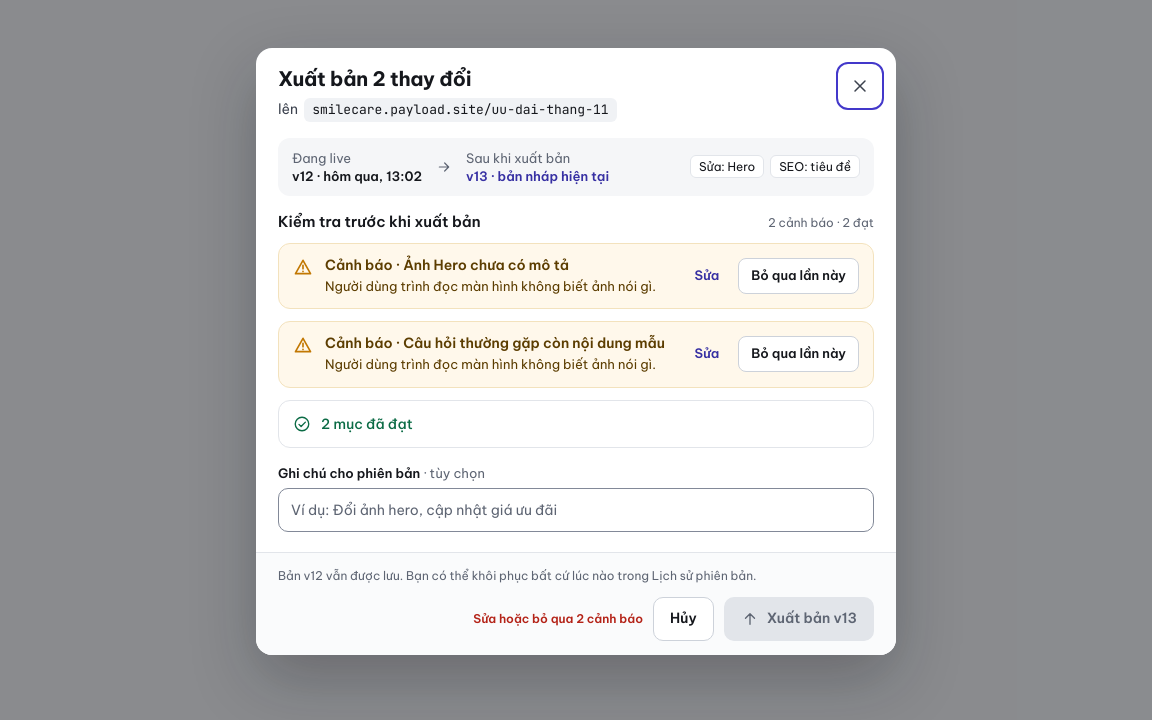
Test: PublishDialog › enables publishing only once every warning is skipped, with the reason linked
Expected: the text "Cảnh báo · Ảnh Hero chưa có mô tả" is shown, [325,256,569,274]
Expected: the button "Xuất bản v13" is disabled, [724,597,874,641]
Click the button "Bỏ qua lần này" in the row of "Ảnh Hero chưa có mô tả": x=799, y=276 [738,258,859,294]
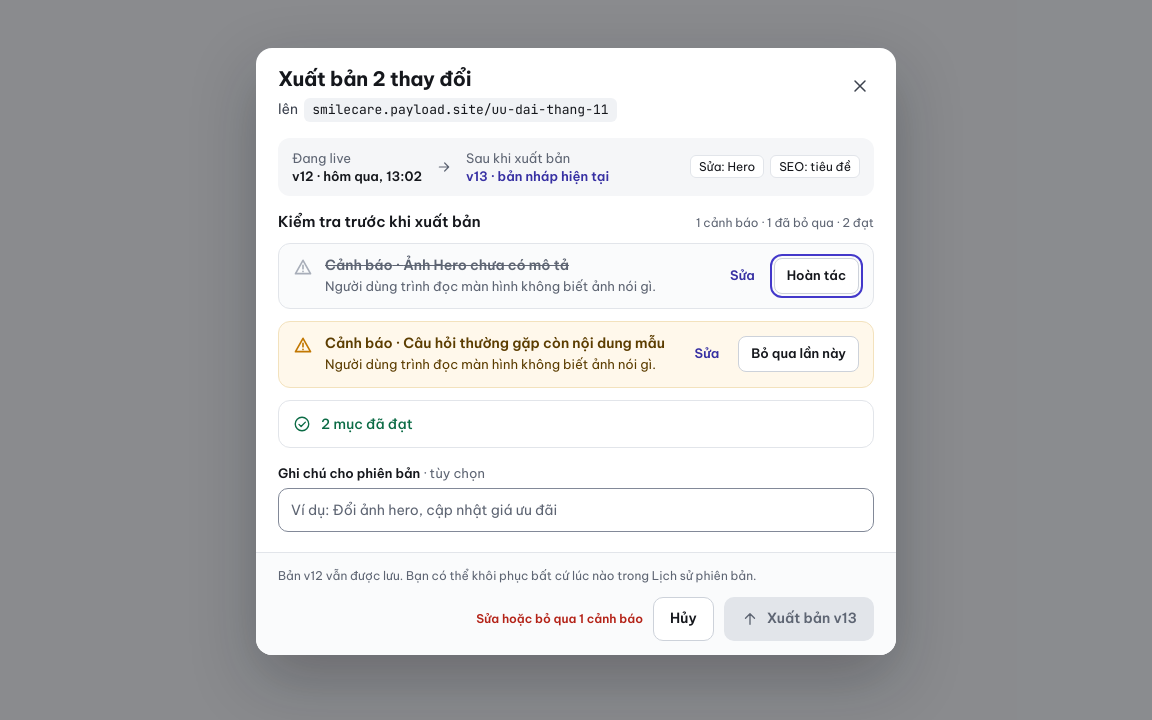
Expected: the button named "Bỏ qua lần này" reads "Hoàn tác", [774,258,859,294]
Expected: the text "1 cảnh báo · 1 đã bỏ qua · 2 đạt" is shown, [696,214,874,230]
Click the button "Bỏ qua lần này": x=799, y=354 [738,336,859,372]
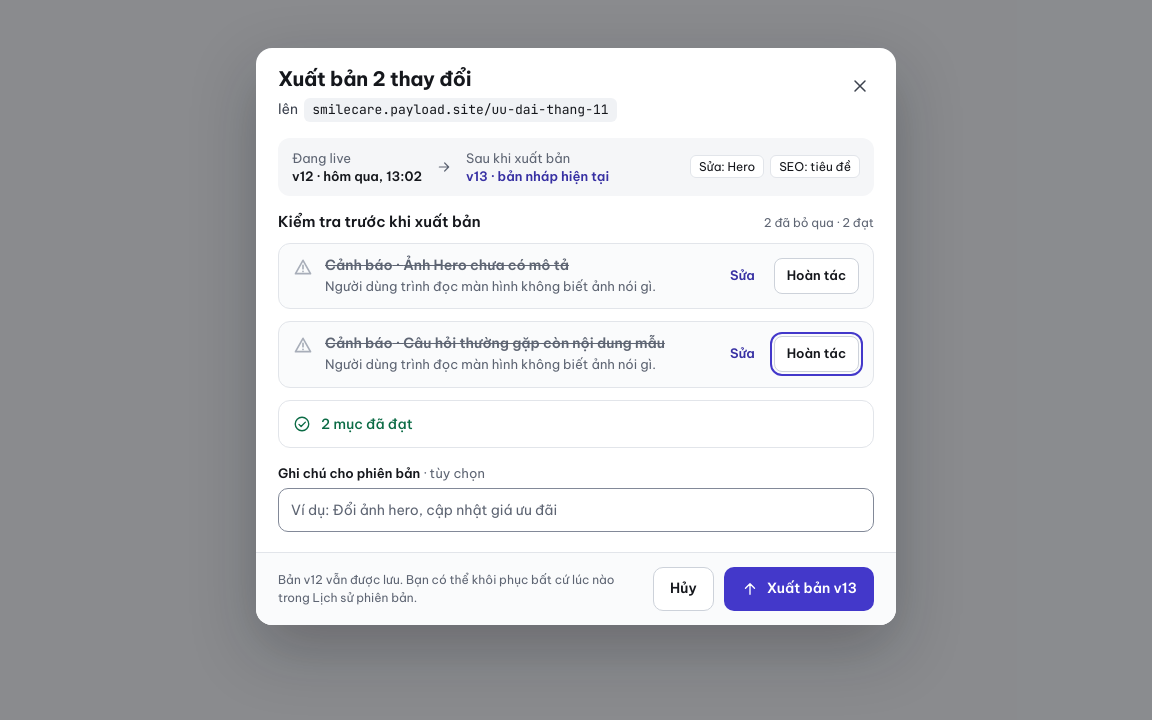
Expected: the button "Xuất bản v13" is enabled, [724,567,874,611]
Expected: the text "Sửa hoặc bỏ qua" is gone
Click the button named "Bỏ qua lần này": x=816, y=276 [774,258,859,294]
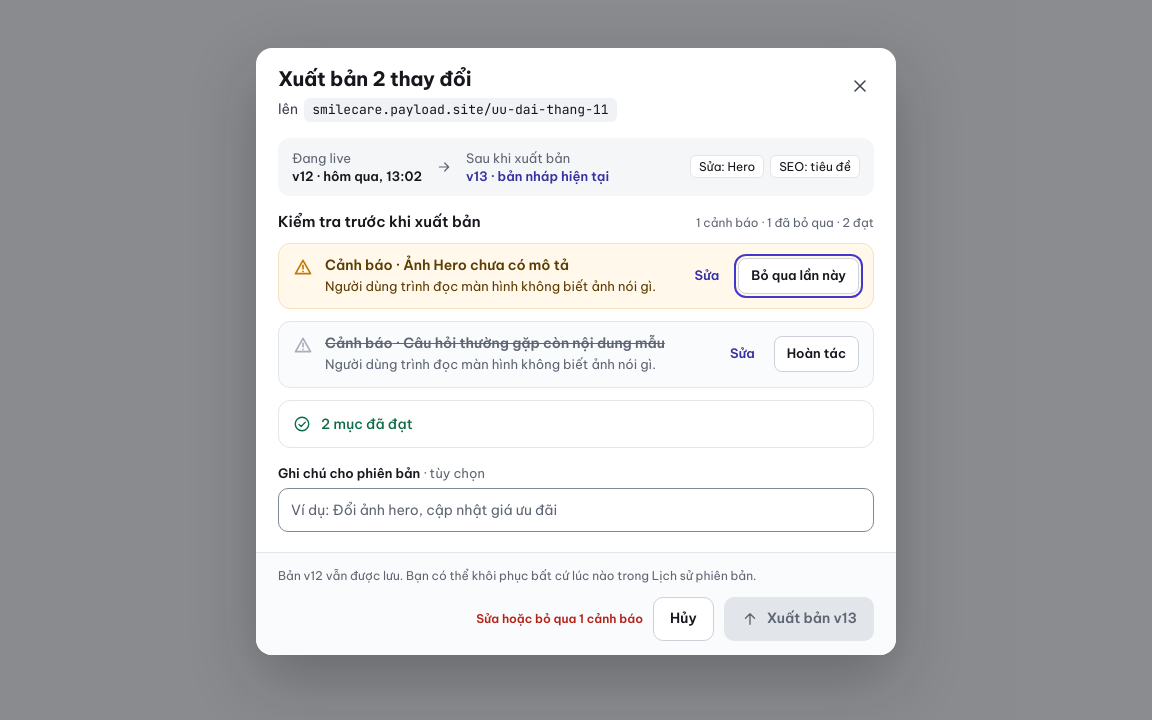
Expected: the button "Xuất bản v13" is disabled, [724,597,874,641]
